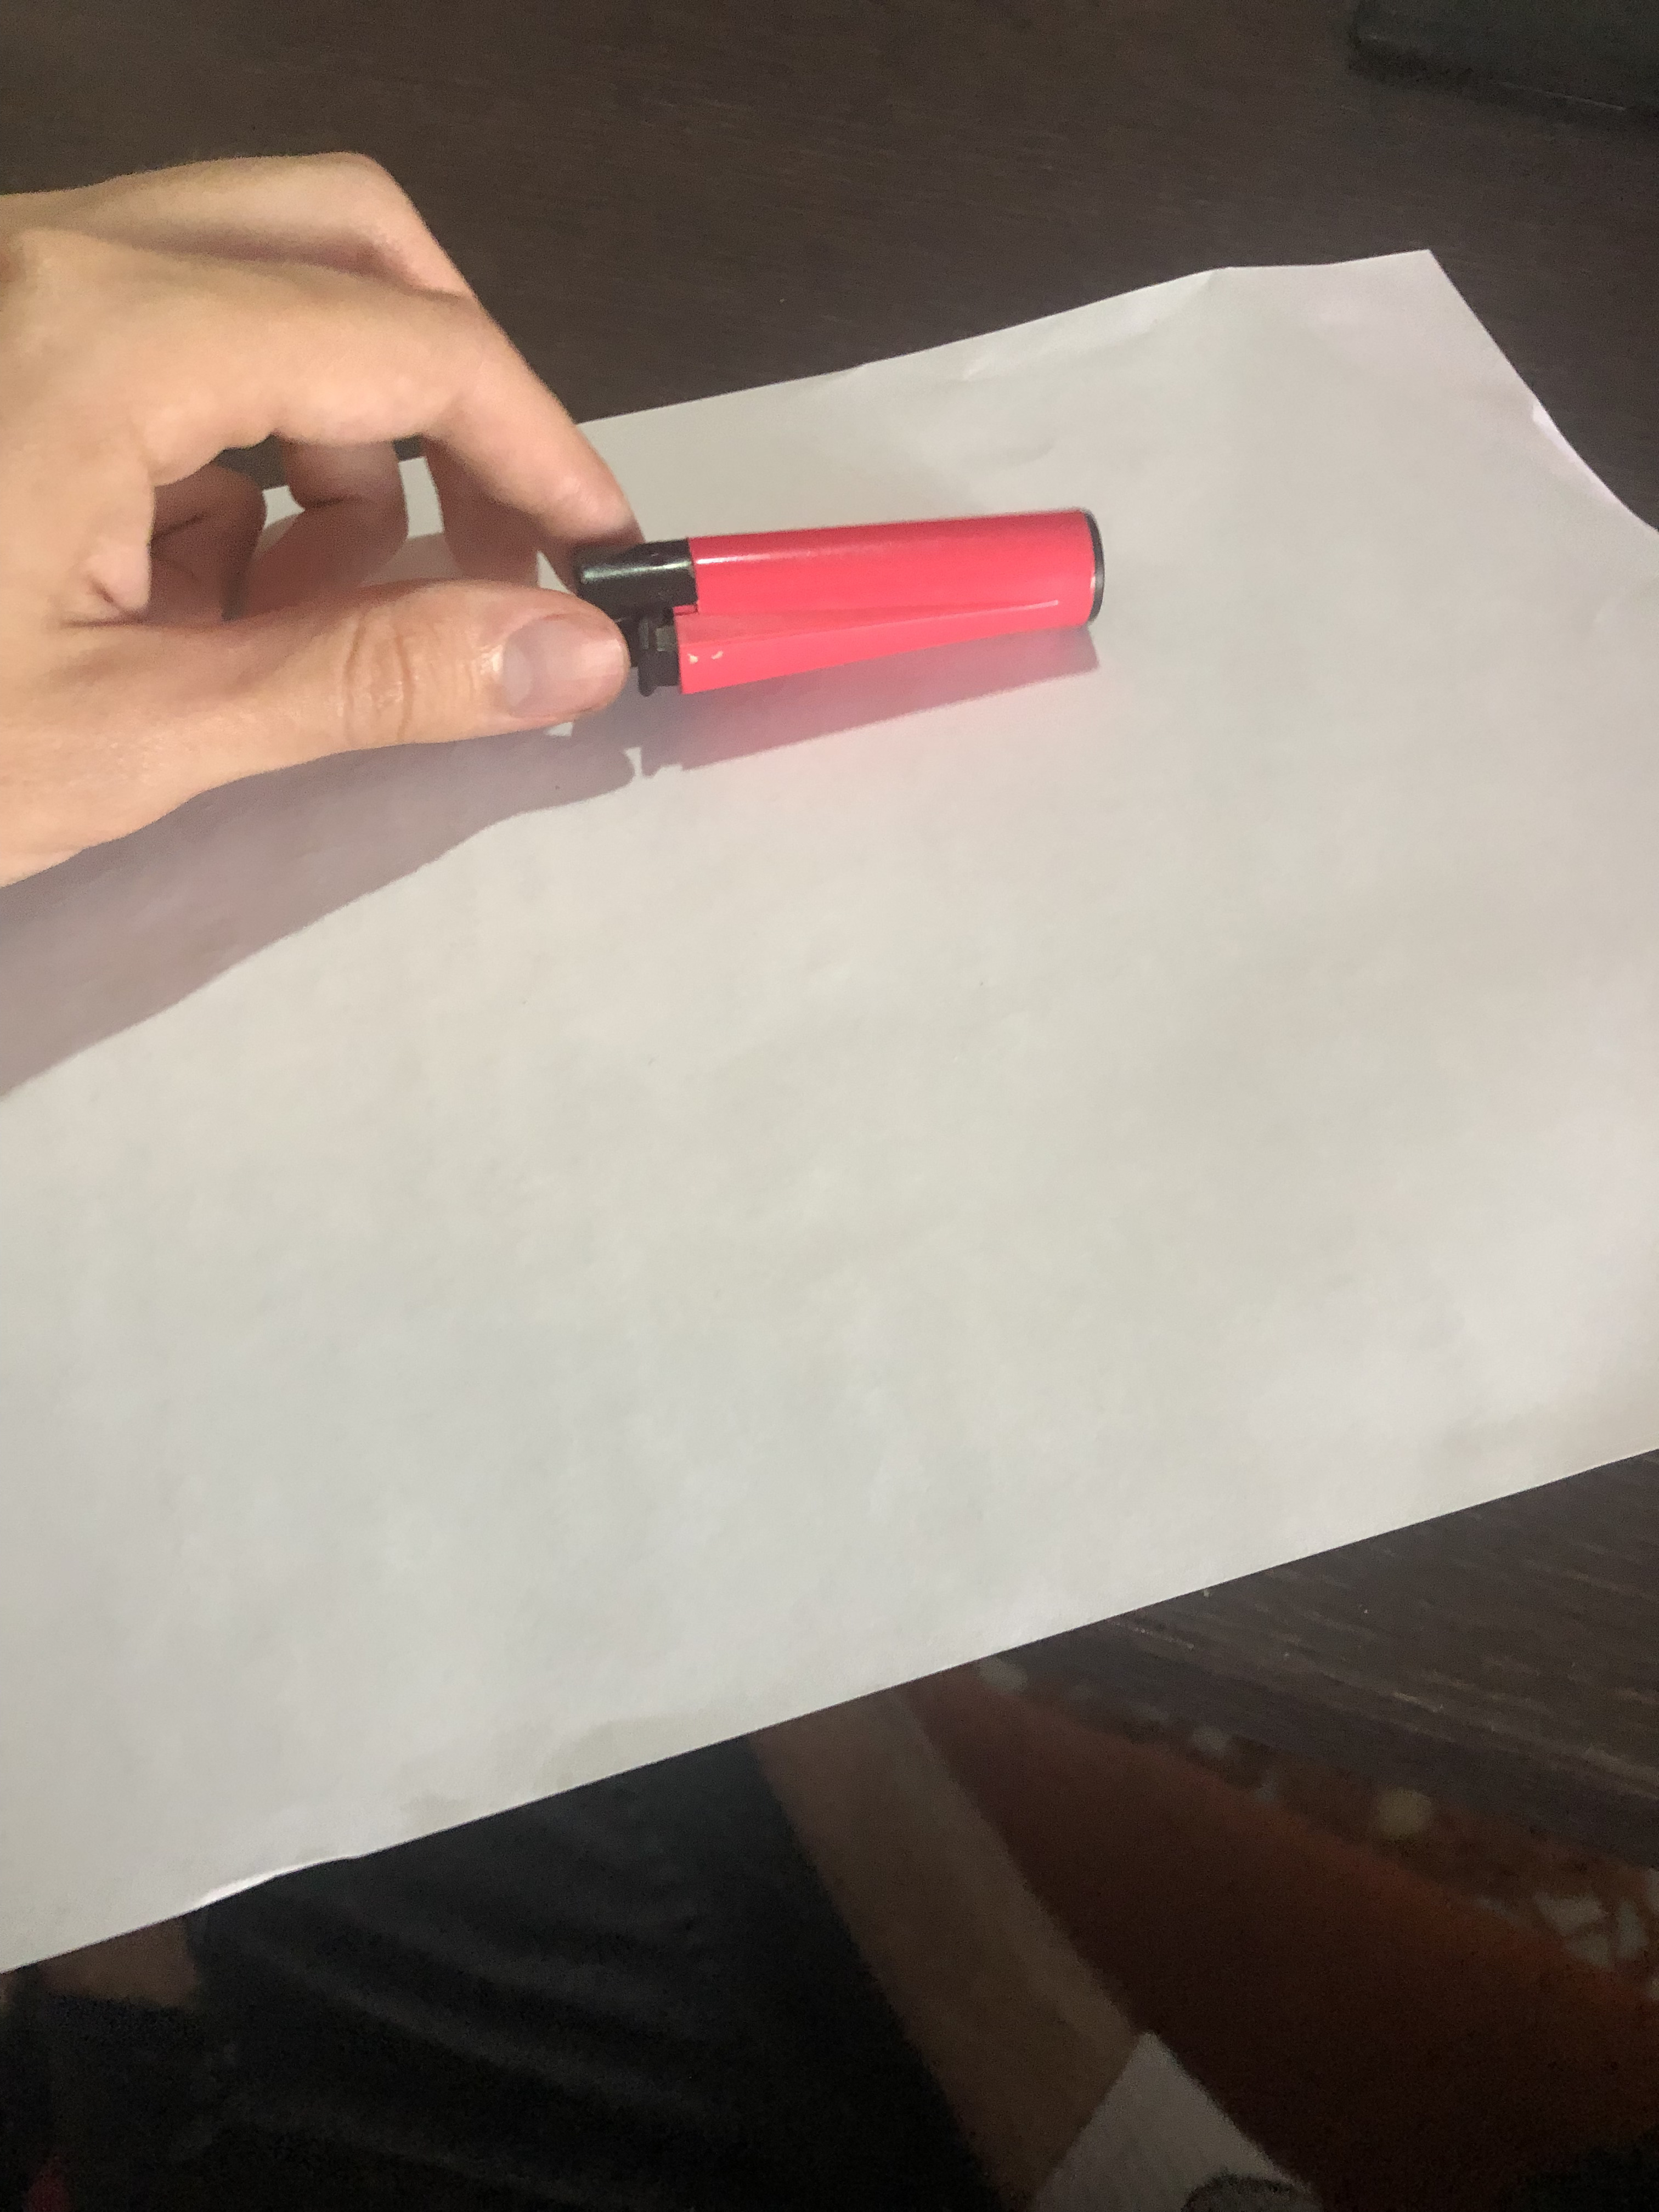Mechero: (570, 503, 1112, 698)
